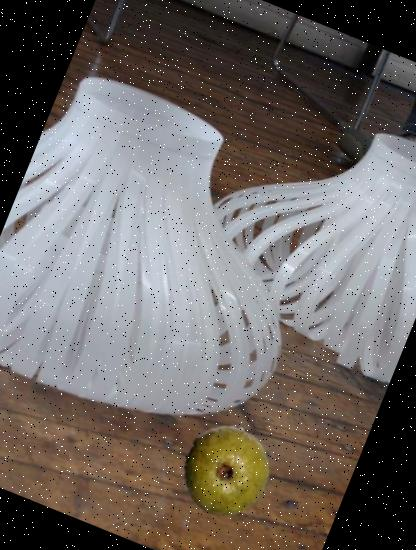Guava: (164, 410, 286, 532)
